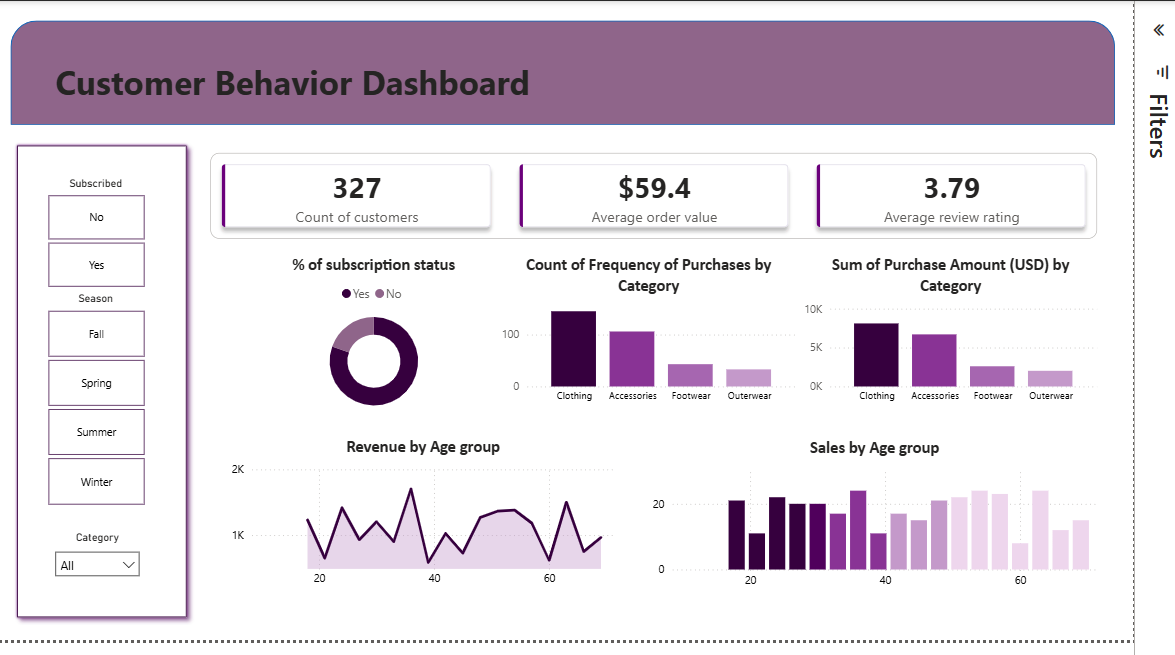

This screenshot's page, from the dashboard's own definition file:
{"tool":"powerbi","page":{"name":"Page 1","canvas":[1280,720],"ordinal":0},"visuals":[{"type":"shape","box":[14.4,153.8,209.1,549.5],"z":1000},{"type":"shape","box":[14.9,21.5,1244,117.6],"z":2000},{"type":"cardVisual","fields":{"Data":["Measure.Count of customers","Measure.Average order value","Measure.Average review rating"]},"box":[223.5,153.8,1035.4,131.2],"z":3000},{"type":"textbox","box":[61.3,61.3,576.5,59.6],"z":4000},{"type":"donutChart","title":"% of subscription status","fields":{"Y":["CountNonNull(project2.Customer ID)"],"Category":["project2.Subscription Status"]},"box":[260.1,284.9,328,187.2],"z":5000},{"type":"columnChart","fields":{"Y":["Sum(project2.Purchase Amount (USD))"],"Category":["project2.Category"]},"box":[904.1,285,340.3,176.3],"z":6000},{"type":"columnChart","fields":{"Category":["project2.Category"],"Y":["CountNonNull(project2.Frequency of Purchases)"]},"box":[561.8,285,342.4,176.3],"z":7000},{"type":"slicer","title":"Subscribed","fields":{"Values":["project2.Subscription Status"]},"box":[32.8,196.8,157.9,131.2],"z":8000},{"type":"slicer","title":"Season","fields":{"Values":["project2.Season"]},"box":[32.8,328,157.9,246],"z":9000},{"type":"slicer","title":"Category","fields":{"Values":["project2.Category"]},"box":[55.4,596.6,114.8,73.8],"z":10000},{"type":"stackedAreaChart","title":"Revenue by Age group","fields":{"Category":["project2.Age (bins)"],"Y":["Sum(project2.Purchase Amount (USD))"]},"box":[258.3,490,442.8,178.4],"z":11000},{"type":"columnChart","title":"Sales by Age group","fields":{"Y":["CountNonNull(project2.Frequency of Purchases)"],"Category":["project2.Age (bins)"]},"box":[734,492,510.5,178.4],"z":12000}]}

Visuals, with their boxes on the page's 1280x720 design canvas (x1, y1, x2, y2). These are canvas units, not pixel positions in the 1175x655 screenshot, which may show the page scaled, cropped or inside an application window:
shape: rect(14, 154, 224, 703)
shape: rect(15, 22, 1259, 139)
cardVisual - Measure.Count of customers x Measure.Average order value: rect(224, 154, 1259, 285)
textbox: rect(61, 61, 638, 121)
"% of subscription status" donutChart: rect(260, 285, 588, 472)
columnChart - Sum(project2.Purchase Amount (USD)) x project2.Category: rect(904, 285, 1244, 461)
columnChart - project2.Category x CountNonNull(project2.Frequency of Purchases): rect(562, 285, 904, 461)
"Subscribed" slicer: rect(33, 197, 191, 328)
"Season" slicer: rect(33, 328, 191, 574)
"Category" slicer: rect(55, 597, 170, 670)
"Revenue by Age group" stackedAreaChart: rect(258, 490, 701, 668)
"Sales by Age group" columnChart: rect(734, 492, 1244, 670)
